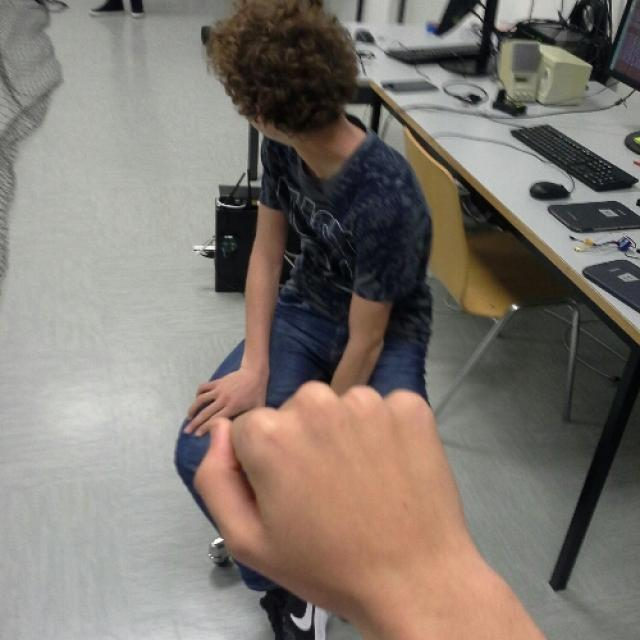rock: (192, 381, 468, 596)
